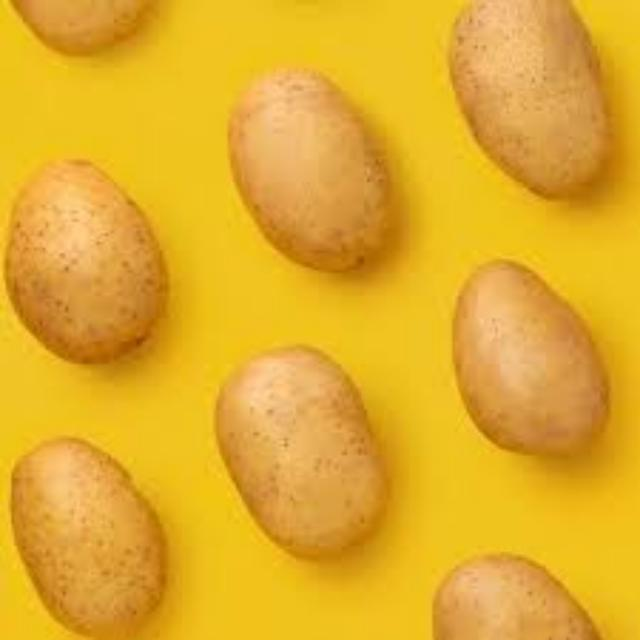Potato: (198, 337, 400, 568), (440, 237, 628, 475), (215, 52, 398, 284), (433, 0, 633, 212), (1, 141, 178, 377), (6, 422, 178, 640), (421, 542, 623, 640)
